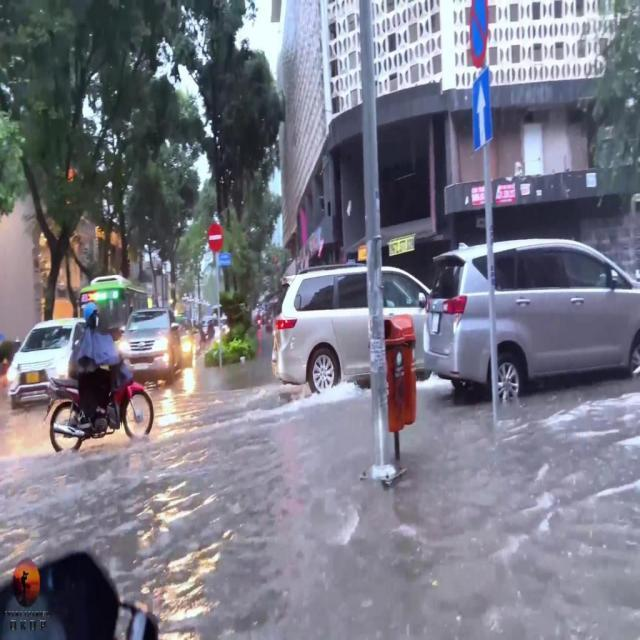102-cam-di-nguoc-chieu: (207, 223, 226, 252)
131a-cam-do-xe: (468, 0, 489, 63)
407a-duong-mot-chieu: (471, 68, 493, 152)
